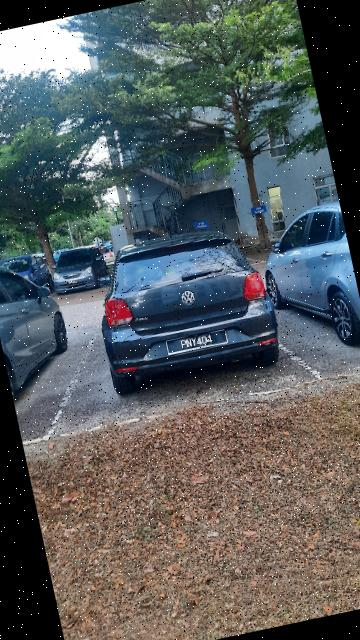License_Plate: (163, 325, 231, 358)
car: (86, 216, 288, 404)
